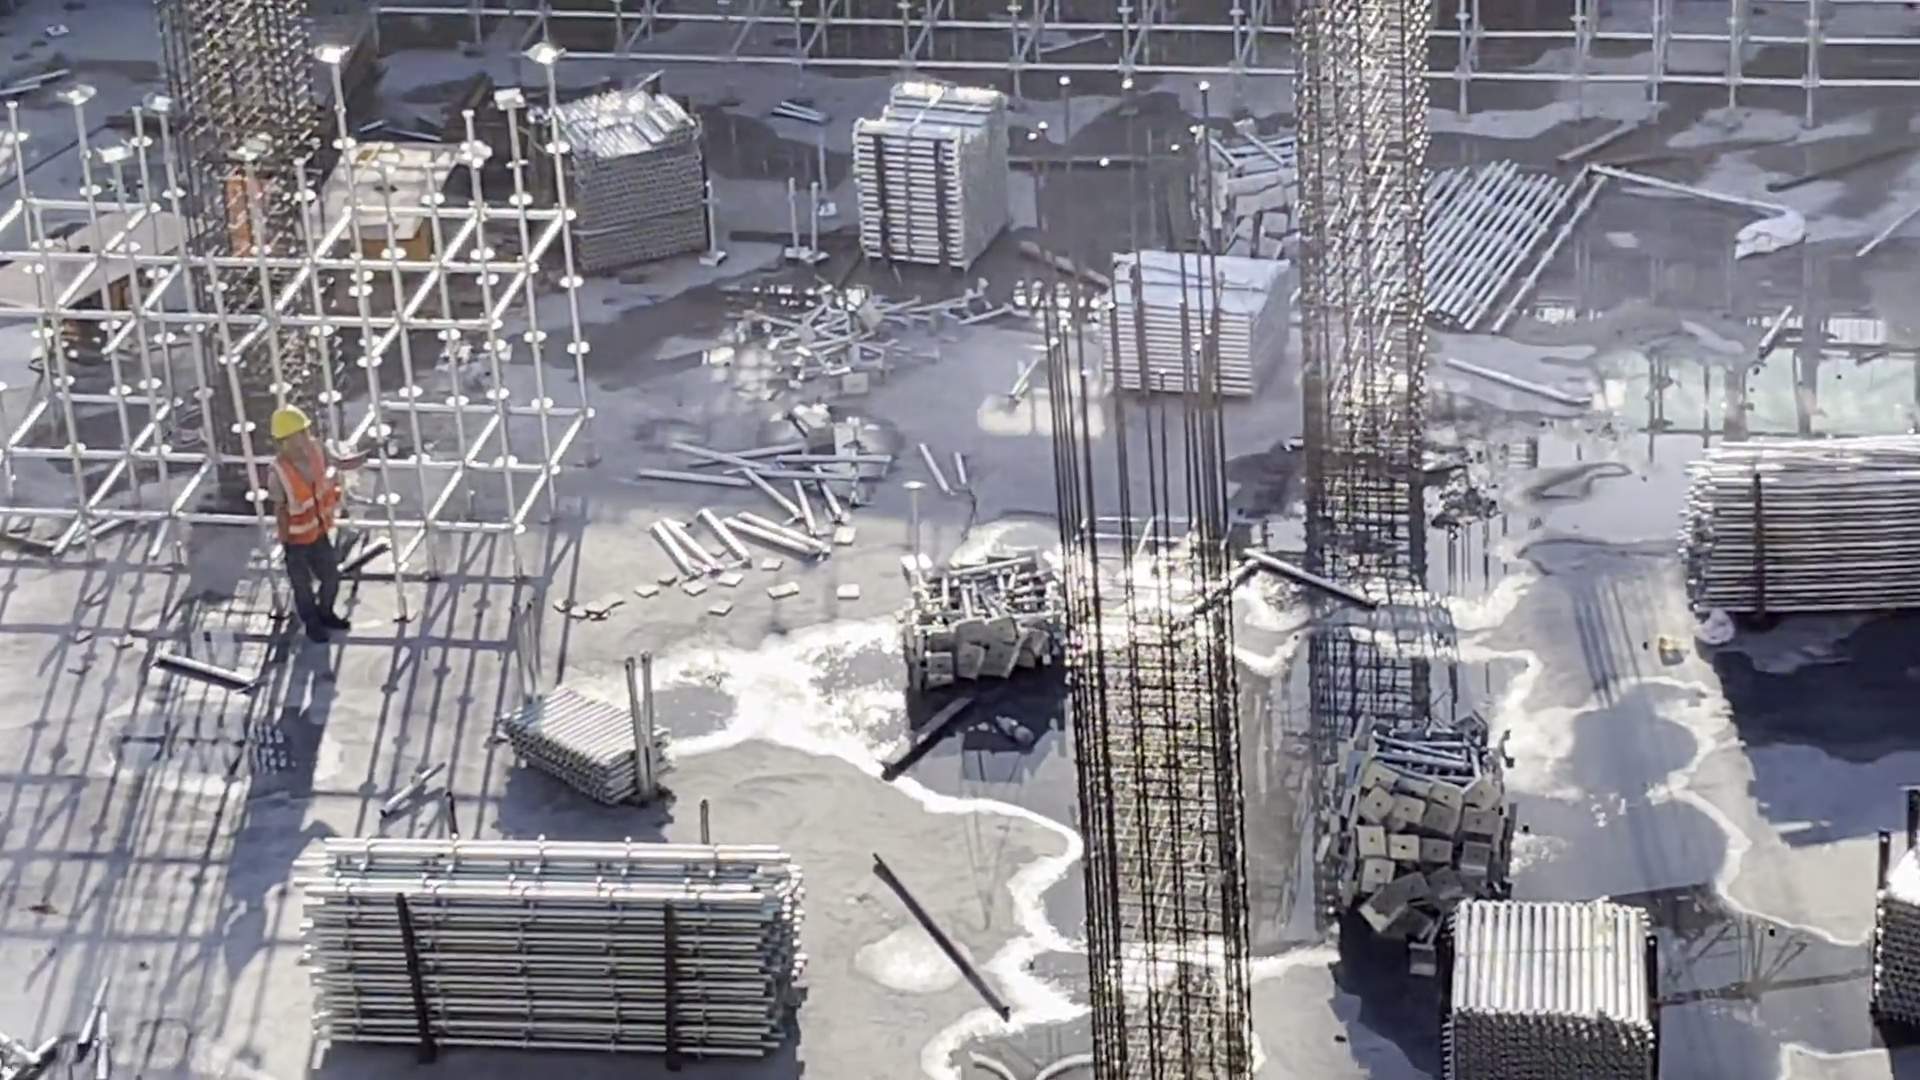cutter: (1, 195, 252, 339), (267, 141, 484, 285)
helmet: (264, 402, 311, 446)
person: (267, 401, 354, 623)
scaffold: (302, 830, 799, 1055), (1691, 436, 1920, 613), (833, 75, 1030, 281), (1340, 738, 1510, 957), (1449, 902, 1657, 1080), (524, 89, 721, 264), (1107, 243, 1273, 394), (891, 559, 1078, 687), (1200, 122, 1356, 268), (516, 675, 700, 790), (767, 287, 938, 380), (1863, 816, 1920, 1032)
vest: (271, 450, 338, 549)
